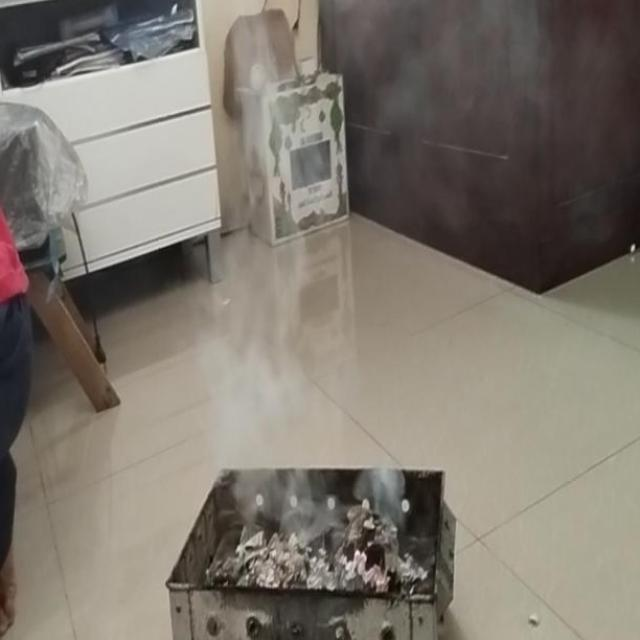fire: (196, 52, 312, 462), (380, 16, 530, 190)
